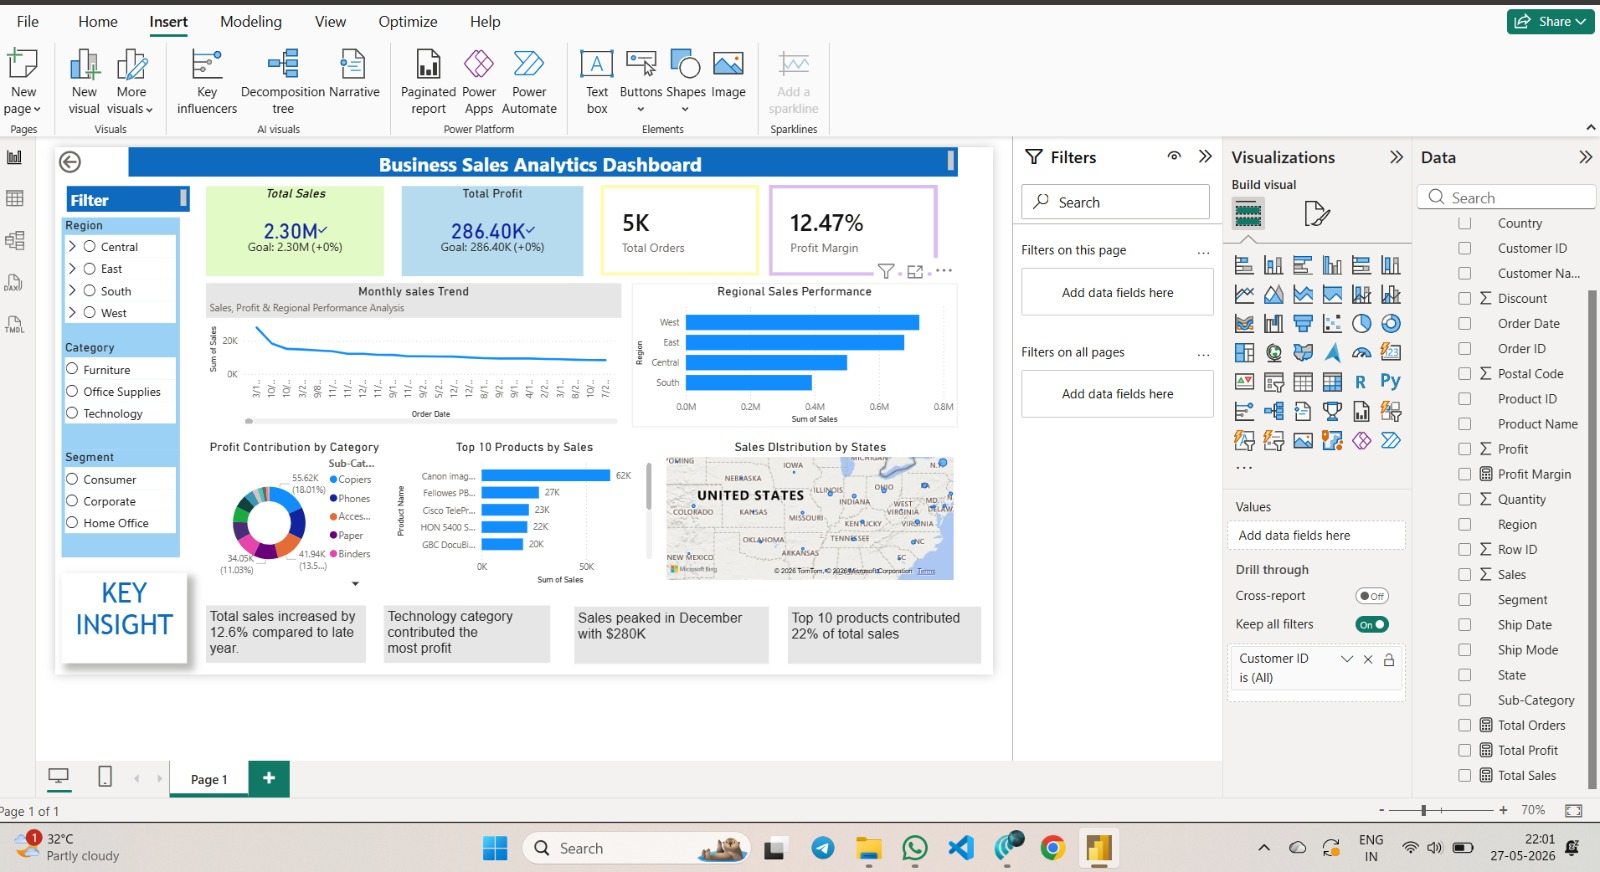

What the dashboard file says about the page in this screenshot:
{"tool":"powerbi","page":{"name":"Page 1","canvas":[1280,720],"ordinal":0},"visuals":[{"type":"kpi","title":"Total Sales","fields":{"Indicator":["Superstore.Total Sales"],"Goal":["Sum(Superstore.Sales)"],"TrendLine":["Superstore.Country"]},"box":[205,53.3,243.3,123.3],"z":0},{"type":"kpi","title":"Total Profit","fields":{"Indicator":["Superstore.Total Profit"],"Goal":["Sum(Superstore.Profit)"],"TrendLine":["Superstore.Country"]},"box":[473.3,53.3,248.3,123.3],"z":1000},{"type":"cardVisual","fields":{"Data":["Superstore.Profit Margin"]},"box":[974.3,51.4,230,124.3],"z":2000},{"type":"cardVisual","fields":{"Data":["Superstore.Total Orders"]},"box":[744.3,51.4,217.1,124.3],"z":3000},{"type":"actionButton","box":[0,0,100,40],"z":4000},{"type":"lineChart","title":"Monthly sales Trend","fields":{"Category":["Superstore.Order Date"],"Y":["Sum(Superstore.Sales)"]},"box":[205.7,185.7,567.1,197.1],"z":5000},{"type":"textbox","box":[100,0,1131.7,40],"z":6000},{"type":"clusteredBarChart","title":"Regional Sales Performance","fields":{"Category":["Superstore.Region"],"Y":["Sum(Superstore.Sales)"]},"box":[787.1,185.7,444.3,197.1],"z":7000},{"type":"donutChart","title":"Profit Contribution by Category","fields":{"Category":["Superstore.Sub-Category"],"Y":["Sum(Superstore.Profit)"]},"box":[205.7,398.6,242.9,210],"z":8000},{"type":"clusteredBarChart","title":"Top 10 Products by Sales ","fields":{"Category":["Superstore.Product Name"],"Y":["Sum(Superstore.Sales)"]},"box":[461.4,398.6,358.6,202.9],"z":9000},{"type":"map","title":"Sales DIstribution by States","fields":{"Category":["Superstore.State"],"Size":["Sum(Superstore.Sales)"]},"box":[830,398.6,401.4,197.1],"z":10000},{"type":"listSlicer","fields":{"Values":["Superstore.Region","Superstore.Category","Superstore.Segment"]},"box":[8.6,95.7,161.4,167.1],"z":11000},{"type":"listSlicer","fields":{"Values":["Superstore.Category"]},"box":[8.6,262.9,161.4,150],"z":12000},{"type":"listSlicer","fields":{"Values":["Superstore.Segment"]},"box":[8.6,412.9,161.4,147.1],"z":13000},{"type":"textbox","box":[15,53.3,168.3,35],"z":14000},{"type":"textbox","box":[205.7,625.7,218.6,78.6],"z":15000},{"type":"textbox","box":[448.6,625.7,227.1,78.6],"z":16000},{"type":"textbox","box":[708.6,627.1,265.7,78.6],"z":17000},{"type":"textbox","box":[1000,627.1,264.3,78.6],"z":18000},{"type":"textbox","box":[8.6,581.4,171.4,122.9],"z":19000}]}

Visuals, with their boxes on the page's 1280x720 design canvas (x1, y1, x2, y2). These are canvas units, not pixel positions in the 1600x872 screenshot, which may show the page scaled, cropped or inside an application window:
"Total Sales" kpi: 205 53 448 177
"Total Profit" kpi: 473 53 722 177
cardVisual - Superstore.Profit Margin: 974 51 1204 176
cardVisual - Superstore.Total Orders: 744 51 961 176
actionButton: 0 0 100 40
"Monthly sales Trend" lineChart: 206 186 773 383
textbox: 100 0 1232 40
"Regional Sales Performance" clusteredBarChart: 787 186 1231 383
"Profit Contribution by Category" donutChart: 206 399 449 609
"Top 10 Products by Sales " clusteredBarChart: 461 399 820 602
"Sales DIstribution by States" map: 830 399 1231 596
listSlicer - Superstore.Region x Superstore.Category: 9 96 170 263
listSlicer - Superstore.Category: 9 263 170 413
listSlicer - Superstore.Segment: 9 413 170 560
textbox: 15 53 183 88
textbox: 206 626 424 704
textbox: 449 626 676 704
textbox: 709 627 974 706
textbox: 1000 627 1264 706
textbox: 9 581 180 704
